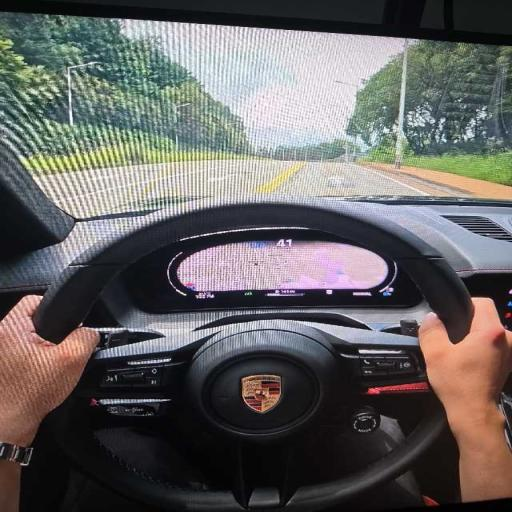car: (0, 4, 511, 511)
lane: (35, 160, 431, 217), (276, 162, 429, 196)
person: (420, 299, 511, 501)
